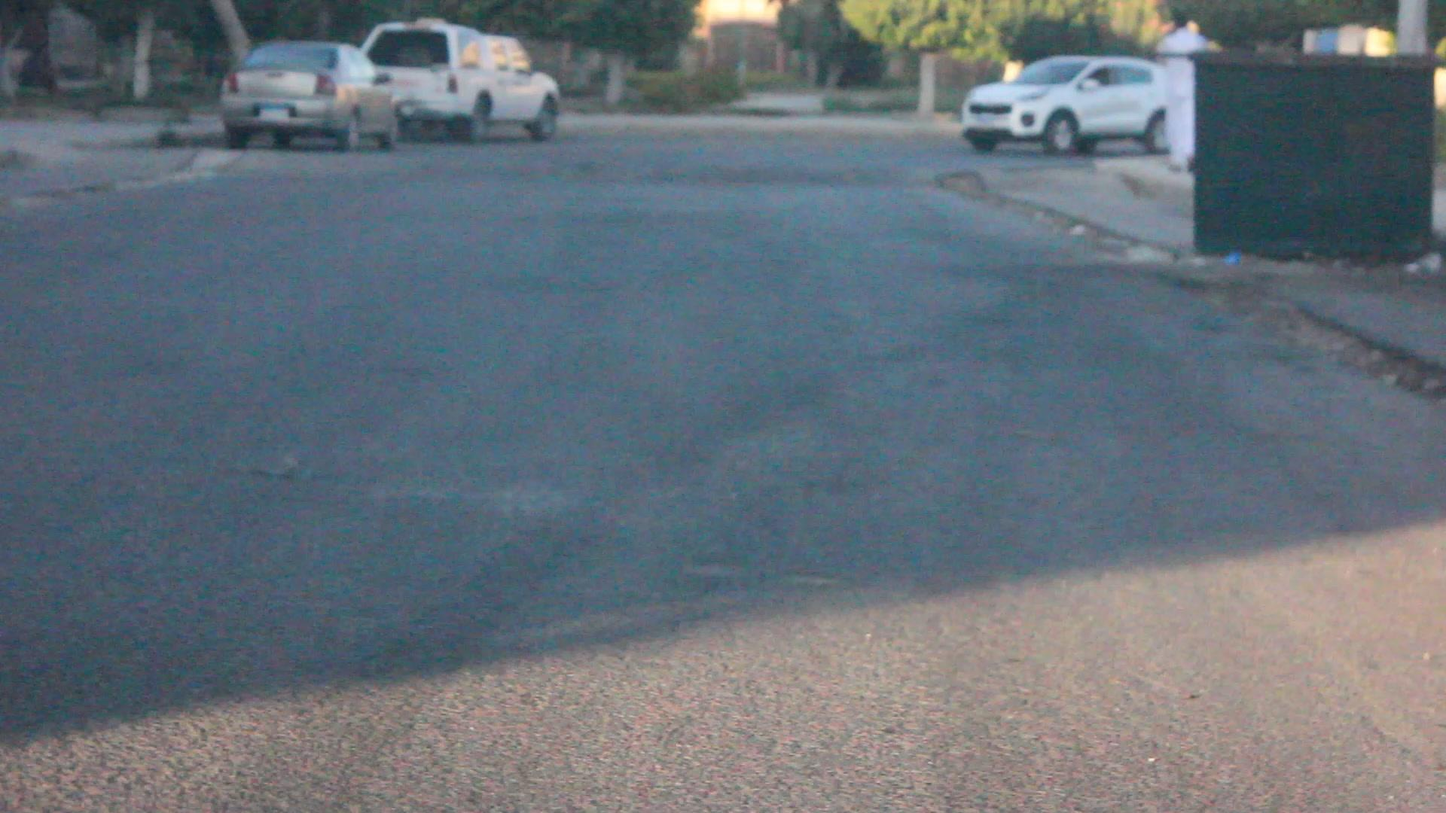Bump: (171, 137, 958, 186)
